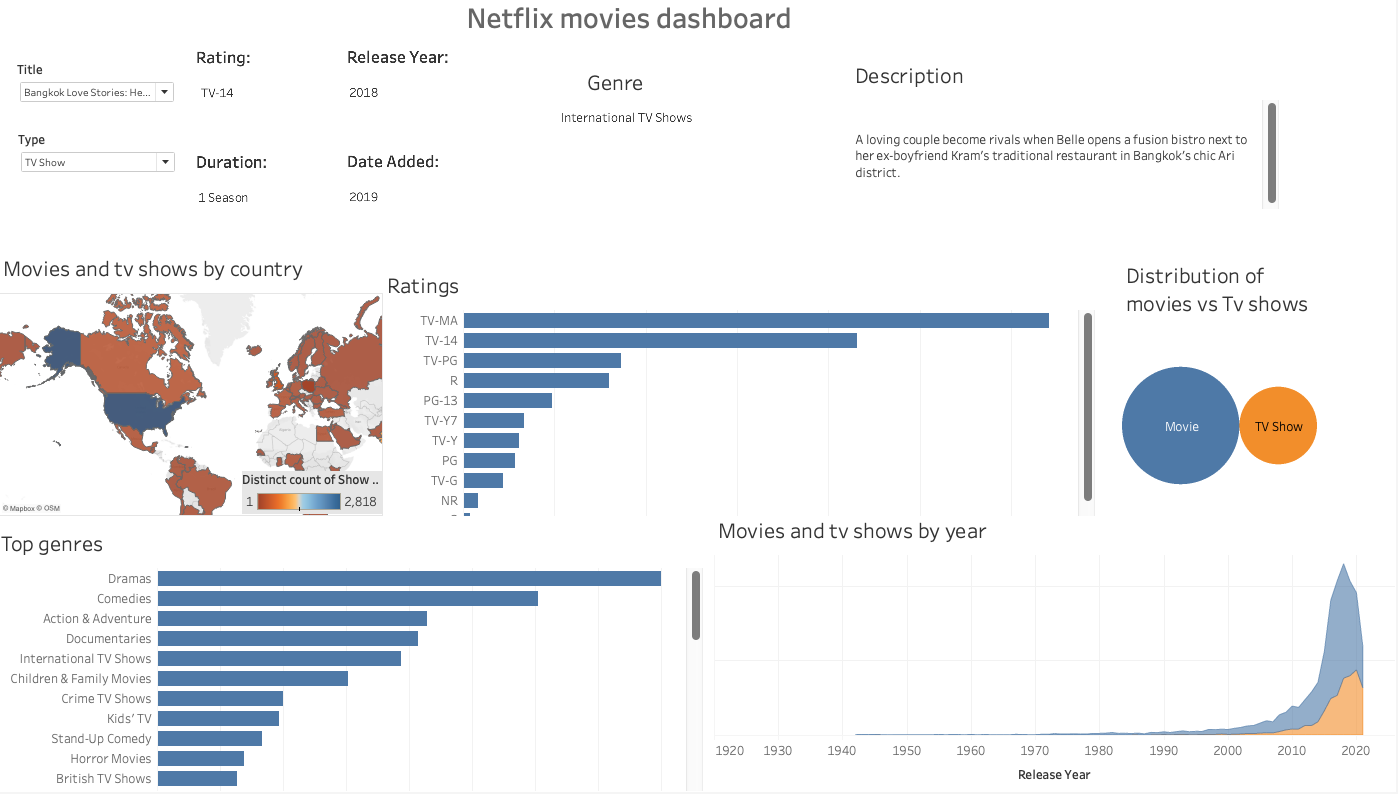

The page's visual inventory and layout, read from the dashboard file:
{"tool":"tableau","page":{"name":"Dashboard 1","canvas":[1400,800],"ordinal":0},"visuals":[{"type":"text","box":[468,6,357,38]},{"type":"worksheet","title":"info release year","mark":"Automatic","box":[346,27,270,226]},{"type":"worksheet","title":"rating & duration","mark":"Automatic","box":[195,53,149,193]},{"type":"worksheet","title":"Description","mark":"Automatic","box":[855,65,483,152]},{"type":"filter","title":"rating & duration","param":"[federated.0172yzk1d38e9y1ghp9o0072rxj1].[none:title:nk]","box":[21,69,160,44]},{"type":"worksheet","title":"Genre","mark":"Automatic","box":[557,72,289,131]},{"type":"filter","title":"rating & duration","param":"[federated.0172yzk1d38e9y1ghp9o0072rxj1].[none:type:nk]","box":[22,139,160,81]},{"type":"worksheet","title":"Movies and tv shows by country","mark":"Automatic","box":[3,258,384,266]},{"type":"worksheet","title":"Distribution of movies vs Tv shows","mark":"Circle","box":[1126,265,269,266]},{"type":"worksheet","title":"Ratings","mark":"Automatic","rows":["rating"],"cols":["show_id"],"box":[387,275,712,249]},{"type":"legend","title":"Movies and tv shows by country","param":"[federated.0172yzk1d38e9y1ghp9o0072rxj1].[ctd:show_id:qk]","box":[246,479,140,43]},{"type":"worksheet","title":"Movies and tv shows by year","mark":"Area","rows":["show_id"],"cols":["release_year"],"box":[718,520,681,278]},{"type":"worksheet","title":"Top genres","mark":"Automatic","rows":["Calculation_4109886505508708352"],"cols":["show_id"],"box":[1,533,706,266]}]}

Visuals, with their boxes in screenshot pixels (x1, y1, x2, y2), scaled from the page's 1400x800 canvas onto the 1398x794 screenshot:
text: (467, 6, 824, 44)
"info release year" worksheet: (346, 27, 615, 251)
"rating & duration" worksheet: (195, 53, 344, 244)
"Description" worksheet: (854, 65, 1336, 215)
"rating & duration" filter: (21, 68, 181, 112)
"Genre" worksheet: (556, 71, 845, 201)
"rating & duration" filter: (22, 138, 182, 218)
"Movies and tv shows by country" worksheet: (3, 256, 386, 520)
"Distribution of movies vs Tv shows" worksheet (Circle marks): (1124, 263, 1393, 527)
"Ratings" worksheet: (386, 273, 1097, 520)
"Movies and tv shows by country" legend: (246, 475, 385, 518)
"Movies and tv shows by year" worksheet (Area marks): (717, 516, 1397, 792)
"Top genres" worksheet: (1, 529, 706, 793)
